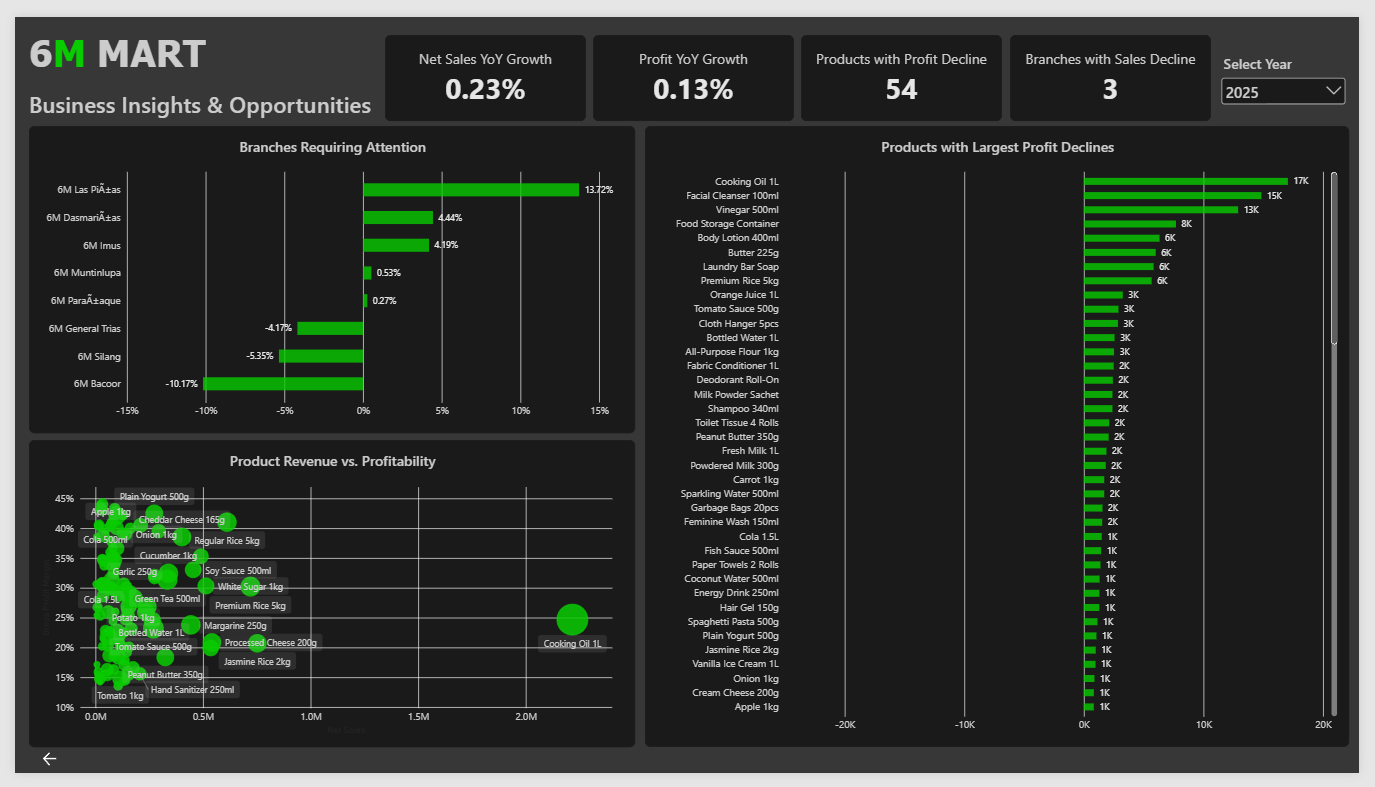

The dashboard page shown, as its layout file describes it:
{"tool":"powerbi","page":{"name":"Business Insights & Opportunities","canvas":[1920,1080],"ordinal":6},"visuals":[{"type":"textbox","box":[20,18.6,508.6,137.1],"z":0},{"type":"cardVisual","fields":{"Data":["_Measures.Products with Profit Decline"]},"box":[1122.9,25.7,287.1,122.9],"z":1000},{"type":"cardVisual","fields":{"Data":["_Measures.Branches with Sales Decline"]},"box":[1421.4,25.7,287.1,122.9],"z":2000},{"type":"slicer","fields":{"Values":["public dim_date.year"]},"box":[1718.6,52.9,187.1,95.7],"z":3000},{"type":"cardVisual","fields":{"Data":["_Measures.Sales YoY Growth %"]},"box":[528.6,25.7,287.1,122.9],"z":4000},{"type":"cardVisual","fields":{"Data":["_Measures.Profit YoY Growth %"]},"box":[825.7,25.7,287.1,122.9],"z":5000},{"type":"clusteredBarChart","title":"Branches Requiring Attention","fields":{"Category":["public dim_branches.branch_name"],"Y":["_Measures.Sales YoY Growth %"]},"box":[20,155.7,865.7,438.6],"z":6000},{"type":"clusteredBarChart","title":"Products with Largest Profit Declines","fields":{"Category":["public dim_products.product_name"],"Y":["_Measures.Gross Profit YoY Change"]},"box":[900,155.7,1005.7,887.1],"z":7000},{"type":"scatterChart","title":"Product Revenue vs. Profitability","fields":{"Category":["public dim_products.product_name"],"Size":["_Measures.Total Units Sold"],"X":["_Measures.Net Sales"],"Y":["_Measures.Gross Profit Margin"]},"box":[20,604.3,865.7,438.6],"z":8000},{"type":"actionButton","box":[0,1040,100,40],"z":8001}]}

Visuals, with their boxes in screenshot pixels (x1, y1, x2, y2), scaled from the page's 1920x1080 canvas onto the 1375x787 screenshot:
textbox: [left=14, top=14, right=379, bottom=113]
cardVisual - _Measures.Products with Profit Decline: [left=804, top=19, right=1010, bottom=108]
cardVisual - _Measures.Branches with Sales Decline: [left=1018, top=19, right=1224, bottom=108]
slicer - public dim_date.year: [left=1231, top=39, right=1365, bottom=108]
cardVisual - _Measures.Sales YoY Growth %: [left=379, top=19, right=584, bottom=108]
cardVisual - _Measures.Profit YoY Growth %: [left=591, top=19, right=797, bottom=108]
"Branches Requiring Attention" clusteredBarChart: [left=14, top=113, right=634, bottom=433]
"Products with Largest Profit Declines" clusteredBarChart: [left=645, top=113, right=1365, bottom=760]
"Product Revenue vs. Profitability" scatterChart: [left=14, top=440, right=634, bottom=760]
actionButton: [left=0, top=758, right=72, bottom=786]
